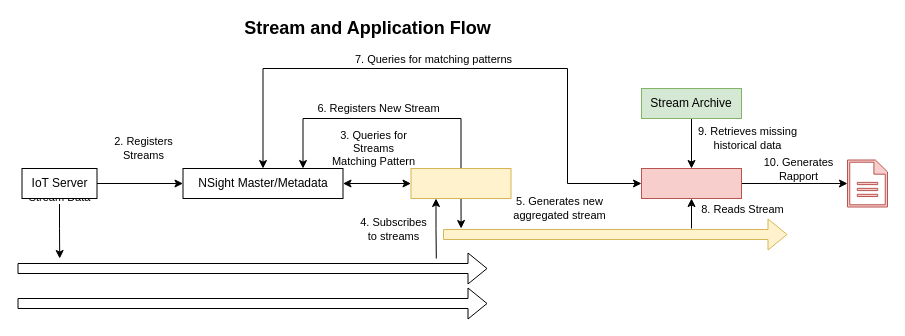
Some shapes in this 905 by 336 pixel diagram are drawn without their labels. The box of each missing label's shape, as (x1, y1, x2, y2) in pixels:
Aggregator A: (410, 168, 511, 198)
Rapport A Generator: (640, 168, 742, 198)
